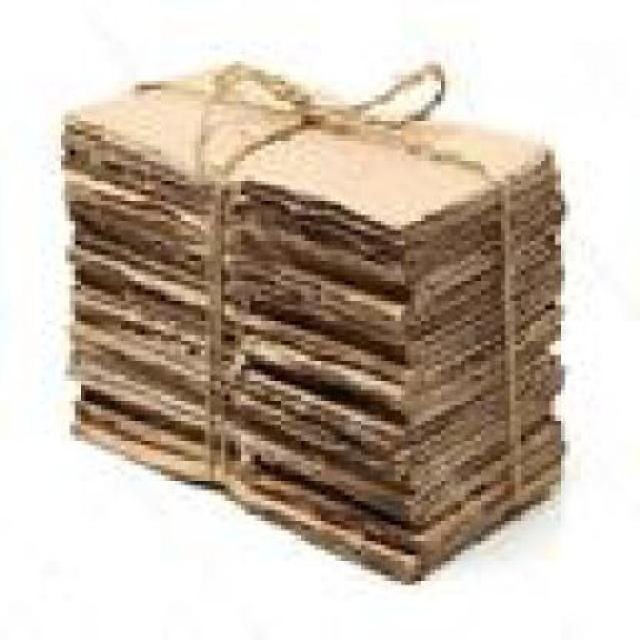cardboard: (75, 60, 571, 575)
